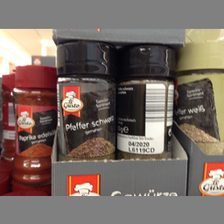spices: (55, 42, 116, 159), (117, 44, 176, 160), (14, 65, 55, 191)
